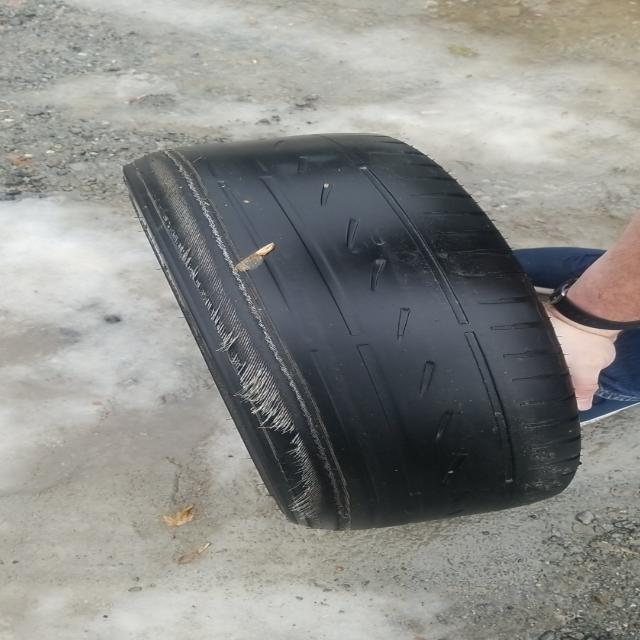Flat spots: (238, 140, 443, 503), (458, 269, 550, 506)
